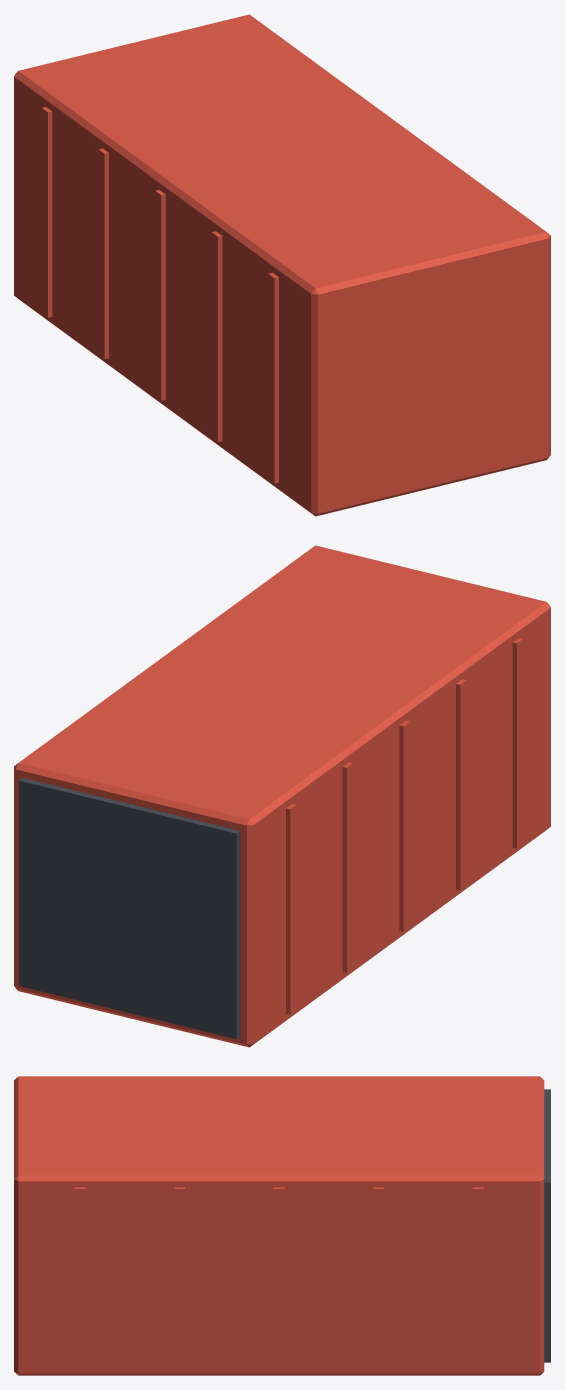
File: container.glb
3 views of the same model, one above another, from view 1: azimuth 30°, elevation 25°; view 2: azimuth 150°, elevation 25°; view 3: azimuth 270°, elevation 25° (orthographic). The views are drawn at different scales.
Visible parts, largest first — view 1: container; view 2: container; view 3: container.
Boxes of the visible parts, <box> form: container: <box>14,14,550,516</box>; container: <box>14,545,550,1047</box>; container: <box>14,1076,550,1375</box>.
Bounding box in the file's own units: 1.14 × 1 × 2.43.
Materials: 1 (1 with a texture image).
